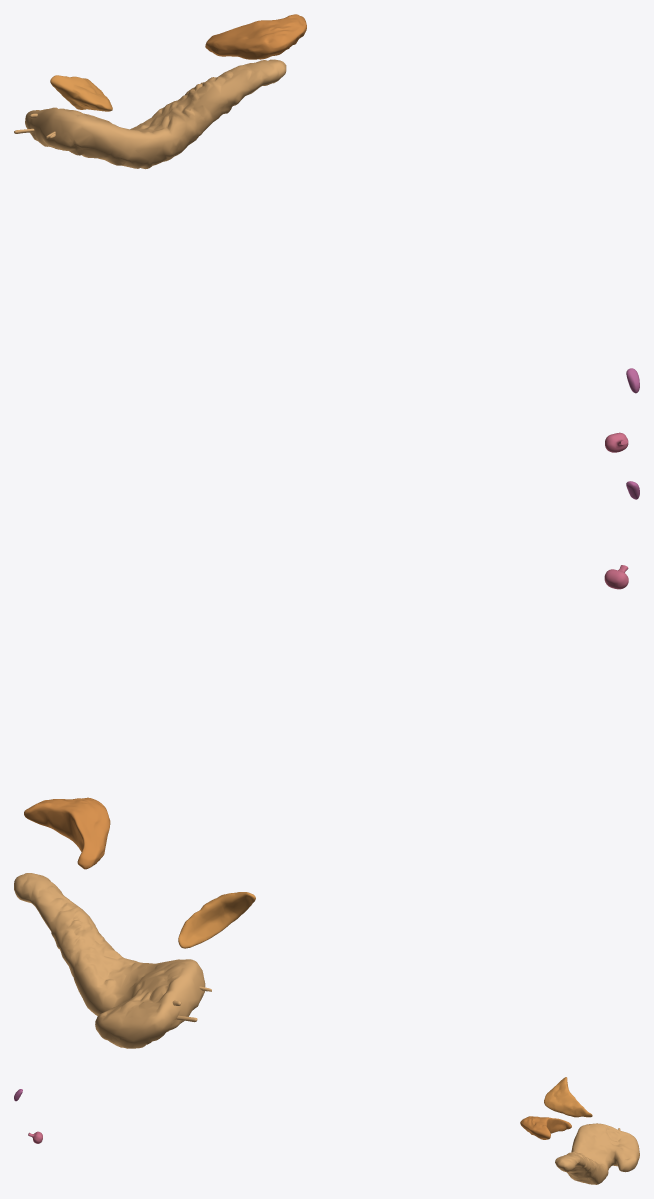
Rendered from endocrine_glands_bodyparts3d_v4.glb.
3 renders of one model, top to bottom at view 1: azimuth 30°, elevation 25°; view 2: azimuth 150°, elevation 25°; view 3: azimuth 270°, elevation 25°, orthographic. The views are drawn at different scales.
Parts seen in each view (by area): view 1: BodyParts3D_pancreas_endocrine_FJ1895, BodyParts3D_pancreas_endocrine_FJ2629, BodyParts3D_adrenal_gland_left_FJ3129, BodyParts3D_adrenal_gland_right_FJ3130; view 2: BodyParts3D_pancreas_endocrine_FJ1895, BodyParts3D_pancreas_endocrine_FJ2629, BodyParts3D_adrenal_gland_left_FJ3129, BodyParts3D_adrenal_gland_right_FJ3130; view 3: BodyParts3D_pancreas_endocrine_FJ1895, BodyParts3D_pancreas_endocrine_FJ2629, BodyParts3D_adrenal_gland_right_FJ3130, BodyParts3D_adrenal_gland_left_FJ3129.
Boxes of the visible parts, x1,y1,x2,y2 form: BodyParts3D_pancreas_endocrine_FJ1895: (25,59,286,169); BodyParts3D_pancreas_endocrine_FJ2629: (25,60,286,168); BodyParts3D_adrenal_gland_left_FJ3129: (205,14,306,59); BodyParts3D_adrenal_gland_right_FJ3130: (50,75,112,111); BodyParts3D_pancreas_endocrine_FJ1895: (14,873,205,1048); BodyParts3D_pancreas_endocrine_FJ2629: (14,875,204,1048); BodyParts3D_adrenal_gland_left_FJ3129: (24,797,110,869); BodyParts3D_adrenal_gland_right_FJ3130: (178,892,255,948); BodyParts3D_pancreas_endocrine_FJ1895: (555,1123,639,1184); BodyParts3D_pancreas_endocrine_FJ2629: (555,1124,638,1184); BodyParts3D_adrenal_gland_right_FJ3130: (544,1077,592,1117); BodyParts3D_adrenal_gland_left_FJ3129: (520,1116,571,1139).
Size of the model in its own units: 138 by 87.21 by 544.
